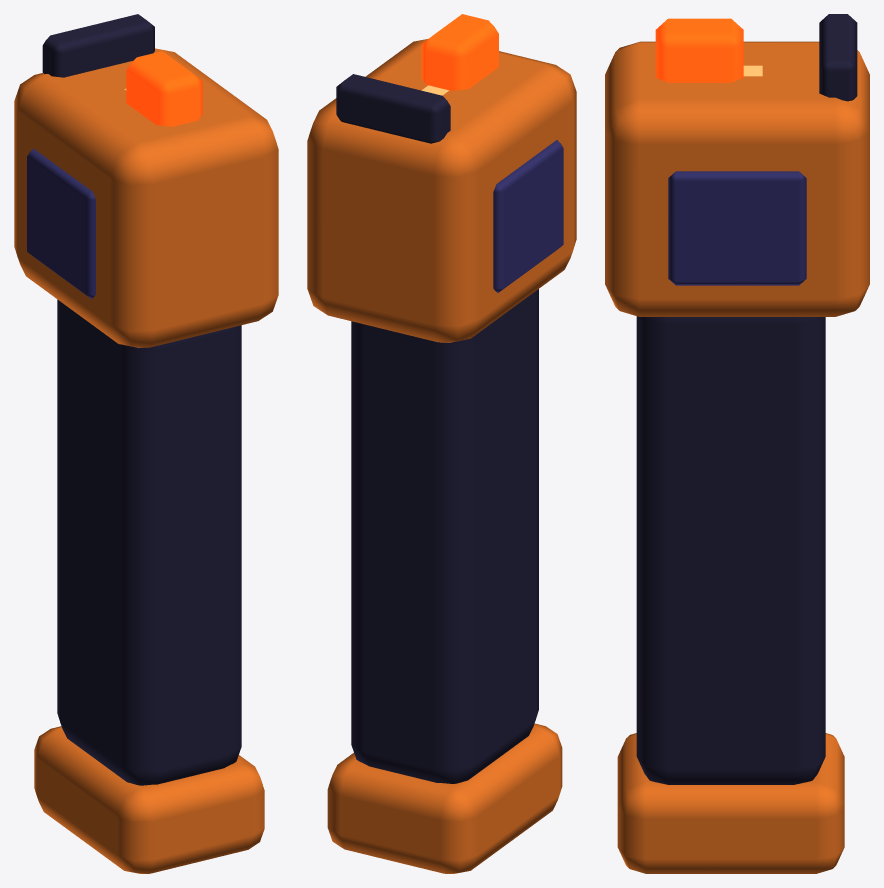
File: utility_cutter.glb
3 views of the same model, side by side, from view 1: azimuth 30°, elevation 25°; view 2: azimuth 150°, elevation 25°; view 3: azimuth 270°, elevation 25° (orthographic). The views are drawn at different scales.
Parts seen in each view (by area): view 1: item.utility_cutter.body, part.blade; view 2: item.utility_cutter.body, part.blade; view 3: item.utility_cutter.body, part.blade.
Part boxes in pixels (x1=…): item.utility_cutter.body: x1=14, y1=14, x2=278, y2=873; part.blade: x1=124, y1=51, x2=202, y2=126; item.utility_cutter.body: x1=307, y1=39, x2=576, y2=873; part.blade: x1=421, y1=14, x2=498, y2=95; item.utility_cutter.body: x1=605, y1=14, x2=869, y2=873; part.blade: x1=655, y1=18, x2=762, y2=82.
Bounding box in the file's own units: 0.1094 × 0.45 × 0.1313.
